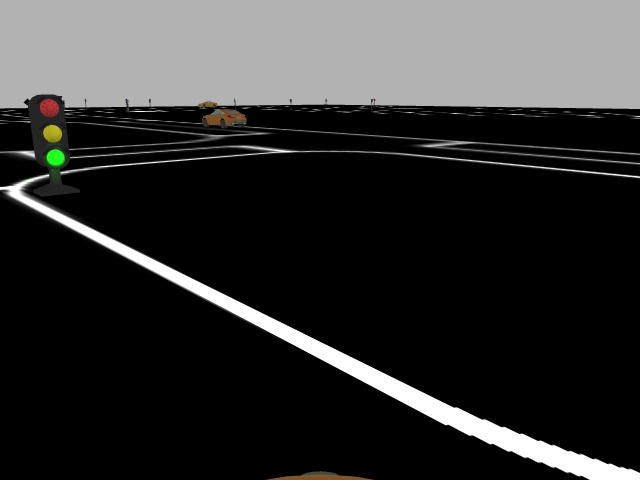green_light: (32, 89, 69, 175)
